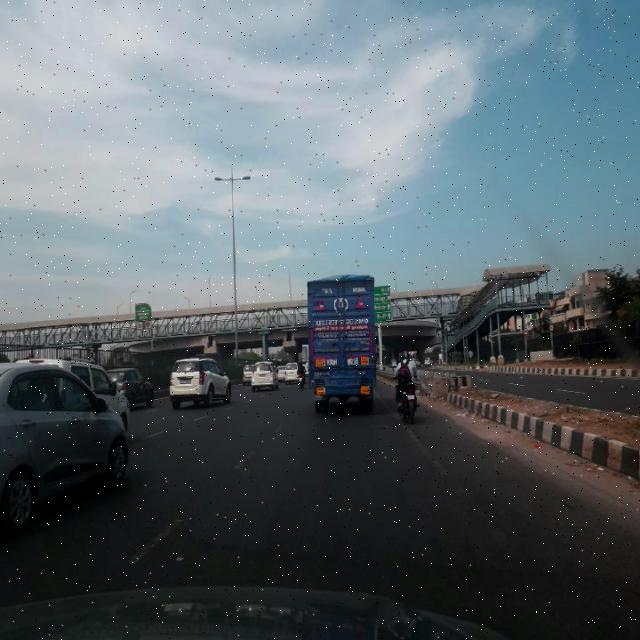D44: (413, 426, 511, 551)
